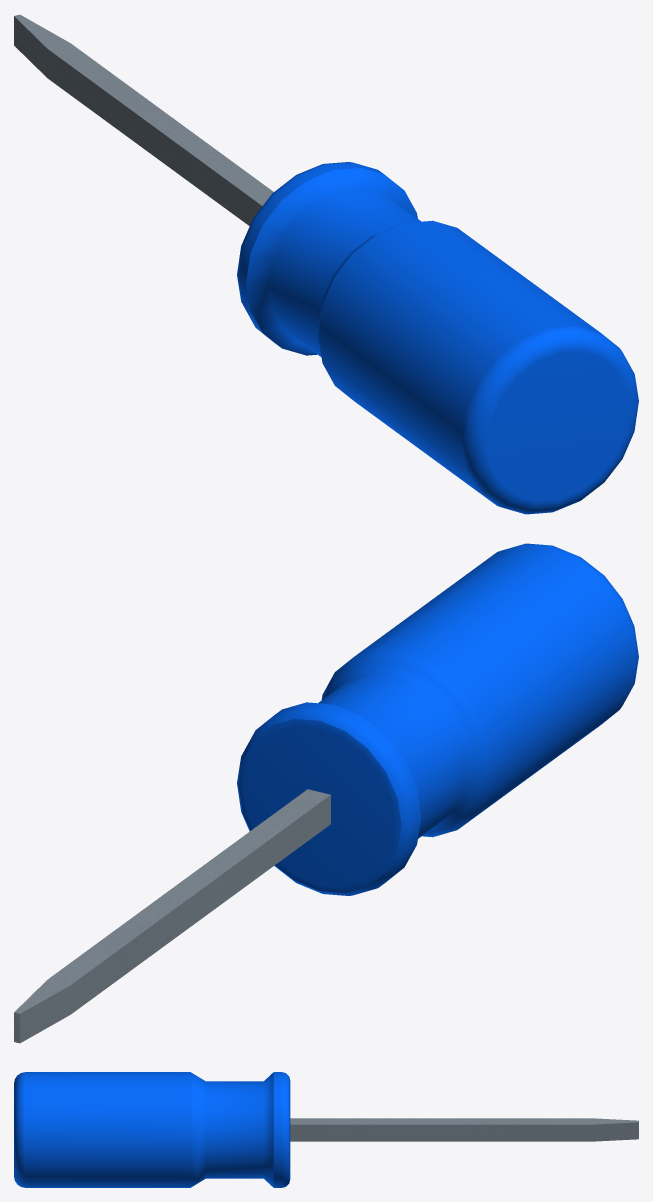
The model's file is screw_driver.fbx.
The picture shows the model from 3 angles, top to bottom: view 1: azimuth 30°, elevation 25°; view 2: azimuth 150°, elevation 25°; view 3: azimuth 270°, elevation 25°; orthographic projection. The views are drawn at different scales.
Visible parts, largest first — view 1: screw_driver; view 2: screw_driver; view 3: screw_driver.
Boxes of the visible parts, bbox=[...] form: screw_driver: bbox=[14, 14, 638, 514]; screw_driver: bbox=[14, 543, 638, 1043]; screw_driver: bbox=[14, 1072, 638, 1187].
Size of the model in its own units: 6 by 6 by 32.12.
1 material, 1 textured.
